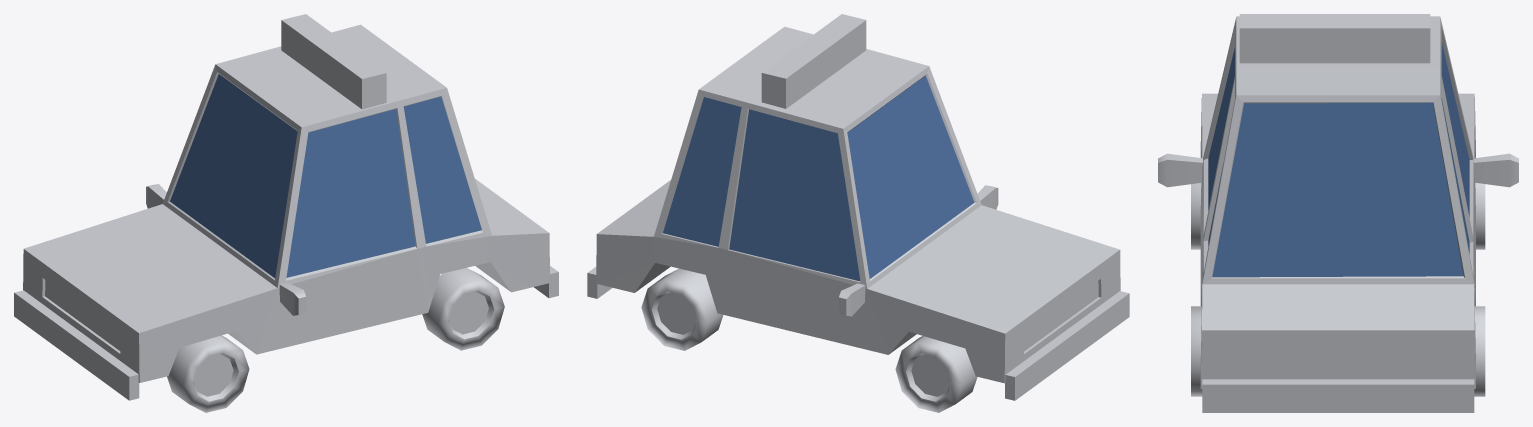
The model's file is PoliceCar.fbx.
The picture shows the model from 3 angles, left to right: view 1: azimuth 30°, elevation 25°; view 2: azimuth 150°, elevation 25°; view 3: azimuth 270°, elevation 25°; orthographic projection. The views are drawn at different scales.
Visible parts, largest first — view 1: PoliceCar; view 2: PoliceCar; view 3: PoliceCar.
Part boxes in pixels (bbox=[...]): PoliceCar: bbox=[14, 14, 558, 412]; PoliceCar: bbox=[587, 14, 1129, 412]; PoliceCar: bbox=[1158, 14, 1518, 412].
Bounding box in the file's own units: 216 × 132 × 133.
